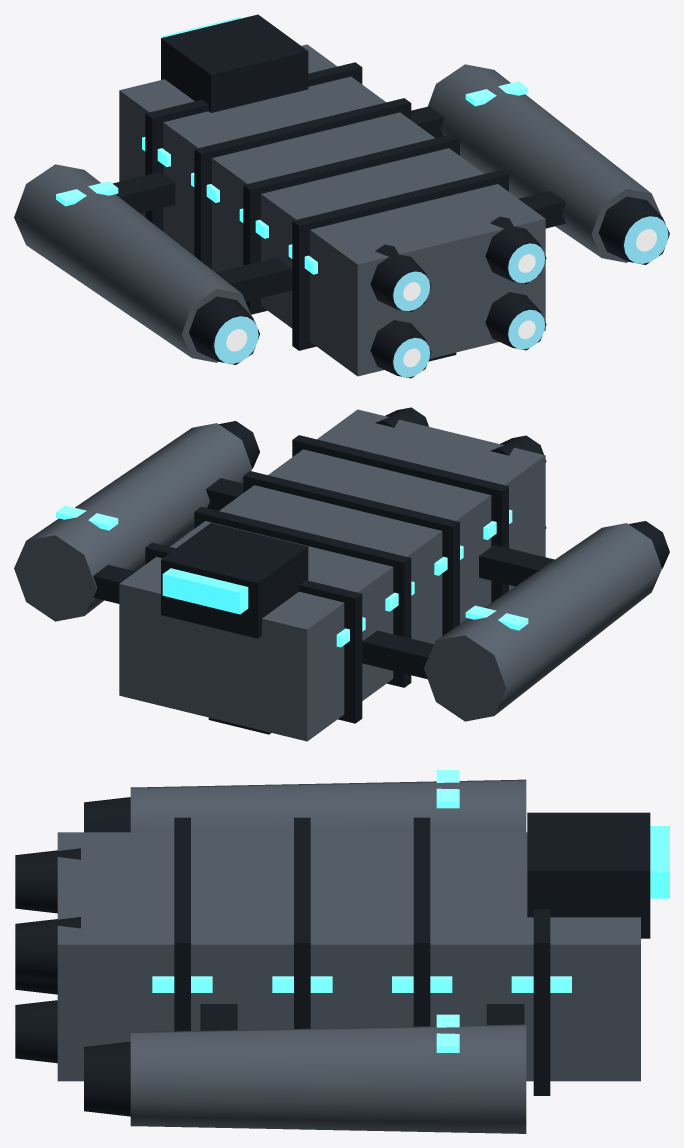
The model's file is hauler.glb.
The picture shows the model from 3 angles, top to bottom: view 1: azimuth 30°, elevation 25°; view 2: azimuth 150°, elevation 25°; view 3: azimuth 270°, elevation 25°; orthographic projection. The views are drawn at different scales.
Visible parts, largest first — view 1: long_armored_cargo_spine, port_long_external_engine, starboard_long_external_engine, forward_command_bridge, cargo_container_band_1.75, cargo_container_band_-0.55, cargo_container_band_0.6, cargo_container_band_-1.7, port_outrigger_strut_rear, port_external_engine_bell, starboard_external_engine_bell, port_outrigger_strut_front (+14 smaller); view 2: long_armored_cargo_spine, port_long_external_engine, starboard_long_external_engine, forward_command_bridge, cargo_container_band_0.6, cargo_container_band_-0.55, cargo_container_band_1.75, cargo_container_band_-1.7, wide_cyan_bridge_window, port_outrigger_strut_front, port_outrigger_strut_rear, starboard_outrigger_strut_front (+7 smaller); view 3: long_armored_cargo_spine, starboard_long_external_engine, port_long_external_engine, forward_command_bridge, cargo_container_band_-0.55, cargo_container_band_1.75, cargo_container_band_0.6, cargo_container_band_-1.7, starboard_external_engine_bell, main_cluster_-0.78_0.43_bell, main_cluster_0.78_0.43_bell, main_cluster_0.78_-0.43_bell (+11 smaller).
Part boxes in pixels (x1,y1,x2,y2): long_armored_cargo_spine: (119,44,545,376); port_long_external_engine: (14,164,251,362); starboard_long_external_engine: (428,64,661,262); forward_command_bridge: (161,14,308,112); cargo_container_band_1.75: (292,170,508,350); cargo_container_band_-0.55: (194,98,411,272); cargo_container_band_0.6: (243,134,459,314); cargo_container_band_-1.7: (145,62,362,231); port_outrigger_strut_rear: (216,257,292,301); port_external_engine_bell: (189,296,259,364); starboard_external_engine_bell: (598,196,669,264); port_outrigger_strut_front: (112,172,175,213); long_armored_cargo_spine: (119,409,545,741); port_long_external_engine: (424,523,661,721); starboard_long_external_engine: (14,423,252,621); forward_command_bridge: (161,523,308,638); cargo_container_band_0.6: (243,471,459,635); cargo_container_band_-0.55: (194,506,411,687); cargo_container_band_1.75: (292,435,508,602); cargo_container_band_-1.7: (145,542,362,723); wide_cyan_bridge_window: (162,568,248,614); port_outrigger_strut_front: (362,630,433,679); port_outrigger_strut_rear: (479,545,554,586); starboard_outrigger_strut_front: (93,565,135,603); long_armored_cargo_spine: (57,832,640,1081); starboard_long_external_engine: (130,1024,526,1133); port_long_external_engine: (130,779,526,832); forward_command_bridge: (527,812,650,938); cargo_container_band_-0.55: (413,817,430,1026); cargo_container_band_1.75: (174,817,190,1031); cargo_container_band_0.6: (294,817,310,1028); cargo_container_band_-1.7: (533,909,550,1095); starboard_external_engine_bell: (84,1041,130,1116); main_cluster_-0.78_0.43_bell: (15,848,80,913); main_cluster_0.78_0.43_bell: (15,917,80,981); main_cluster_0.78_-0.43_bell: (15,1000,57,1063).
Size of the model in its own units: 6.68 by 2.3 by 6.3.
